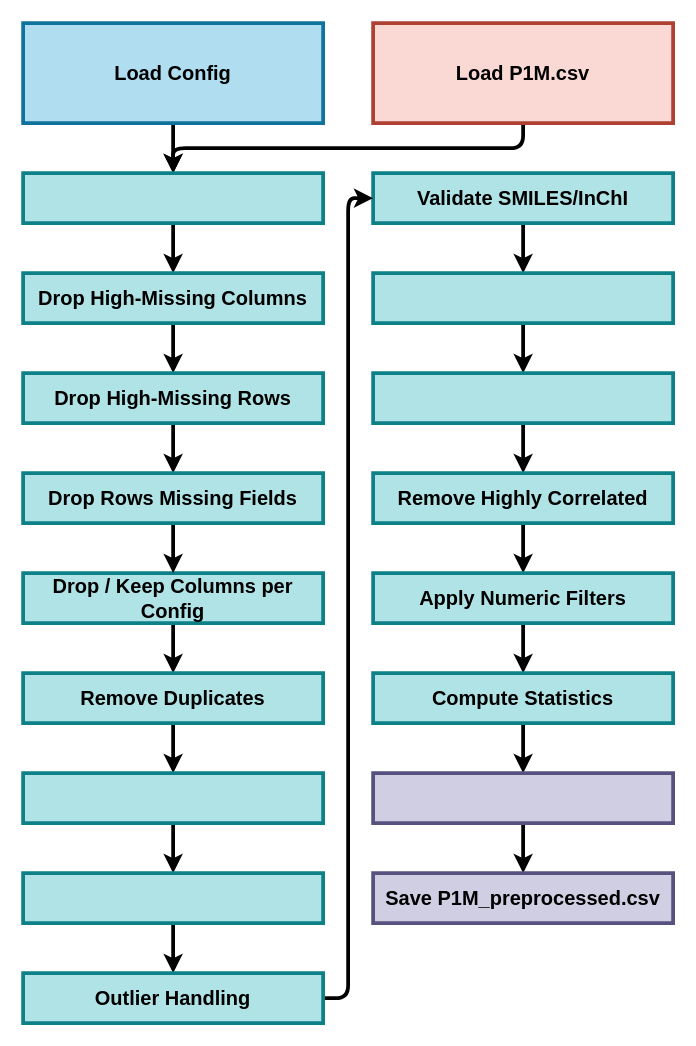
The diagram is 696 pixels wide and 1046 high, and some of its shapes have lost their labels. The shapes that lost their labels are listed below. From the top down, each one's box as (x1, y1, x2, y2) in pixels, then its label:
(21, 171, 324, 224): Standardize Missing Values
(371, 271, 674, 324): Enforce dtypes
(371, 371, 674, 424): Remove Constant/Quasi-Constant Columns
(21, 771, 324, 824): Clean Text Fields
(371, 771, 674, 824): Write Report
(21, 871, 324, 924): Clean Numeric Fields
